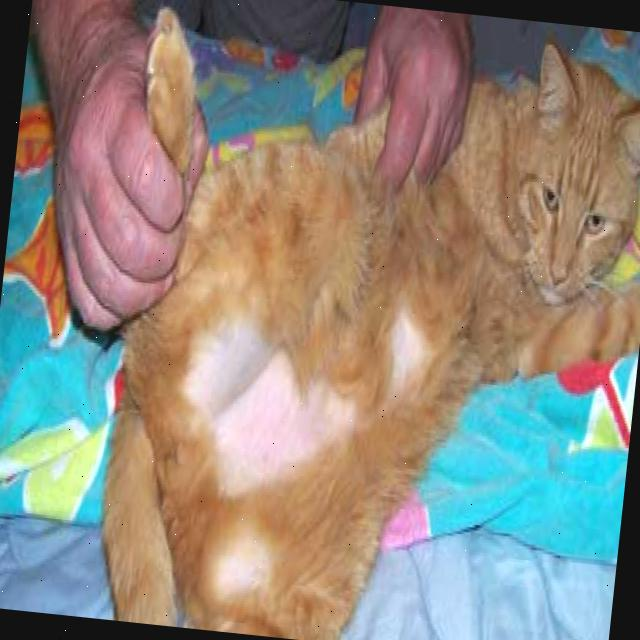cat-hairloss: (180, 294, 423, 590)
